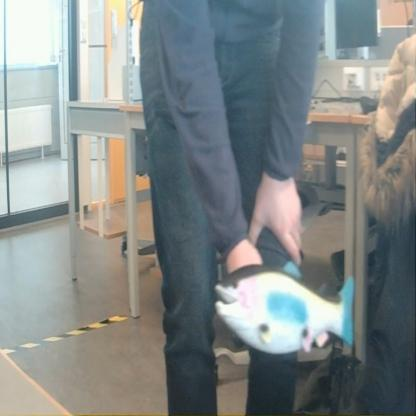rubberfish: (212, 265, 358, 362)
